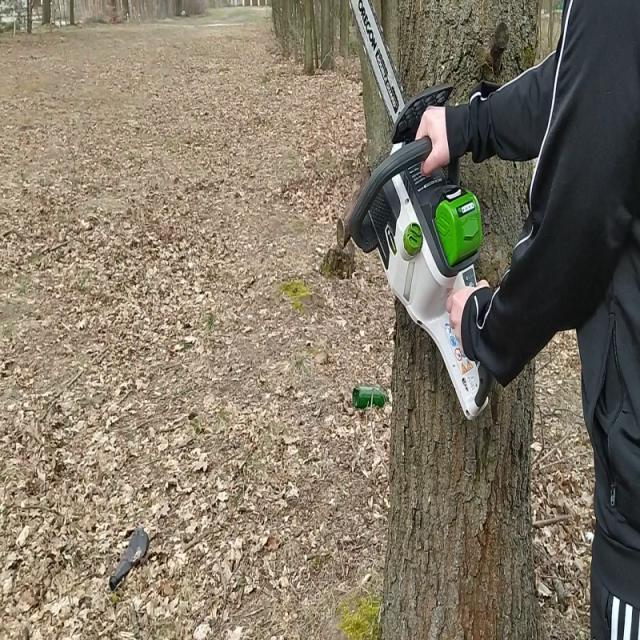Chainsaw: (340, 0, 498, 422)
